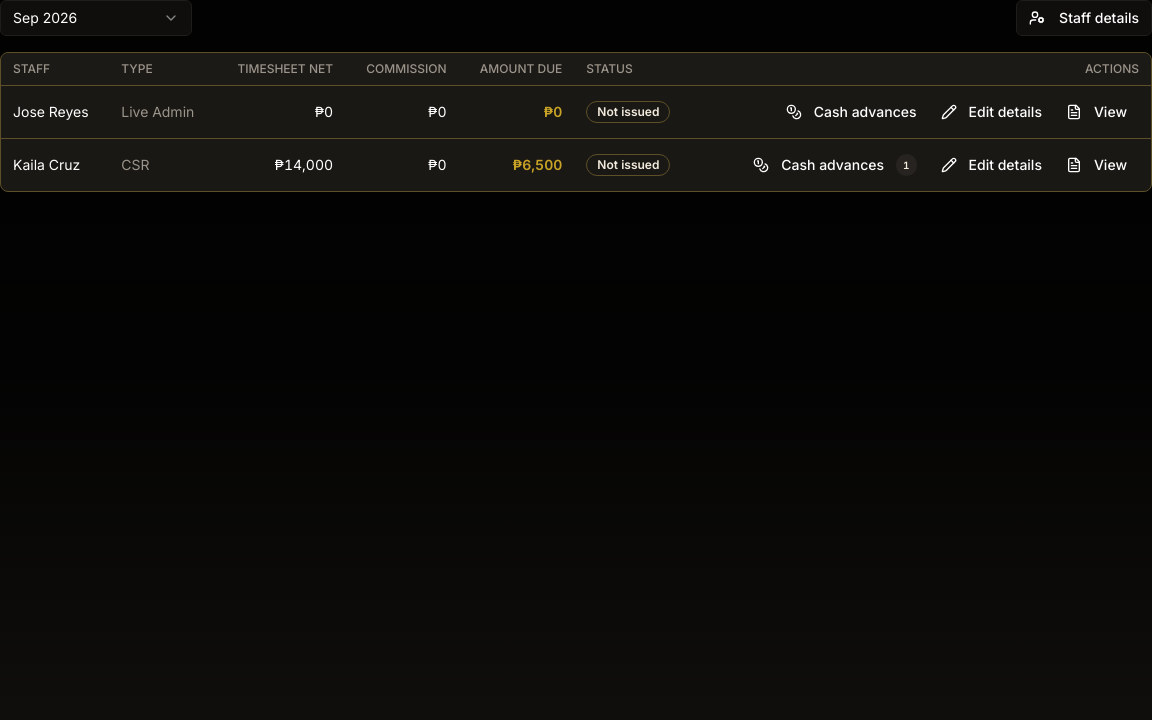
Test: Payslips tab — cash advances, employee ID, cash bond › adds an advance, uploads its proof, then attaches it
Later steps or results of the test are not shown.
Click the button with test id "payslip-advances-open".
click(835, 165)  # box [741,147,928,183]
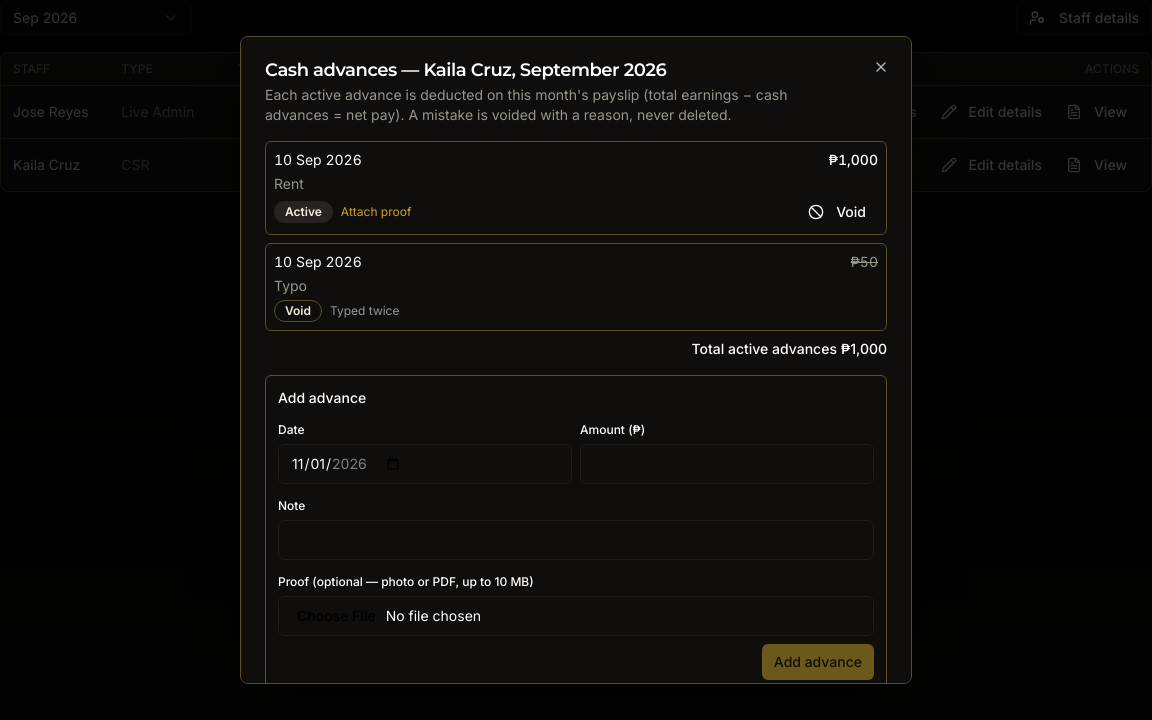
Now the heading "Cash advances — Kaila Cruz, September 2026" is shown, box [265,59,666,81]
Now the number of elements with test id "cash-advance-row" is 2, box [265,141,887,235]; [265,243,887,331]
Now the text with test id "cash-advances-total" shows "₱1,000", box [841,340,887,357]
